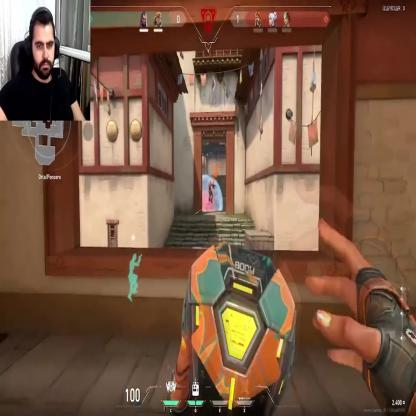enemy: (207, 179, 214, 204)
enemy_head: (209, 180, 212, 185)
